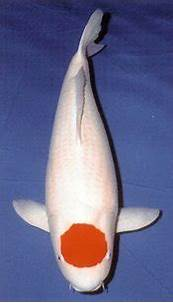sun: (12, 7, 160, 294)
